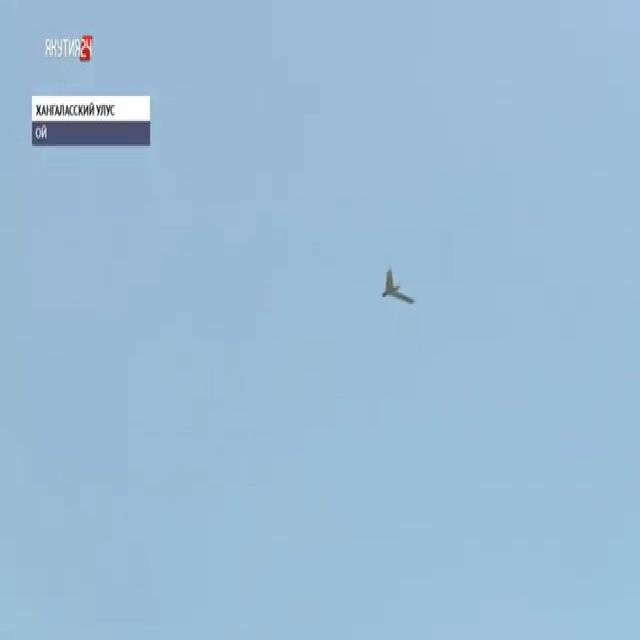drone: (373, 255, 420, 320)
